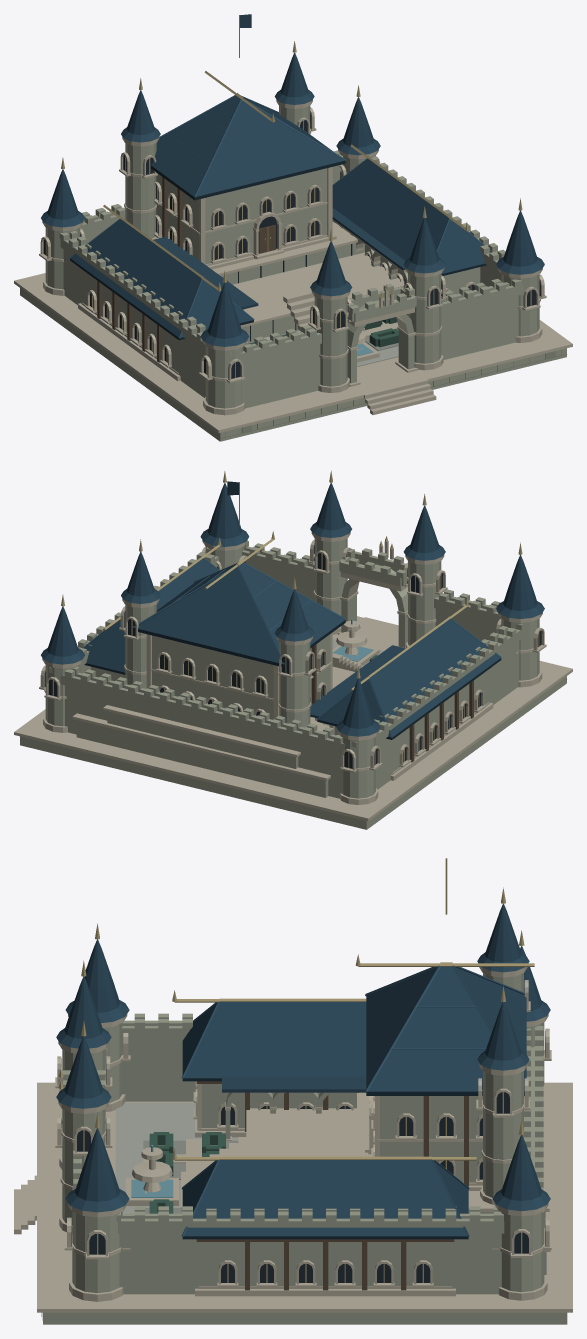
File: fjord.glb
3 renders of one model, top to bottom at view 1: azimuth 30°, elevation 25°; view 2: azimuth 150°, elevation 25°; view 3: azimuth 270°, elevation 25°, orthographic. The views are drawn at different scales.
Visible parts, largest first — view 1: citadel, citadel-roof, precinct-base, inhabited-detail; view 2: citadel, citadel-roof, precinct-base; view 3: citadel, citadel-roof, precinct-base, inhabited-detail.
Part boxes in pixels (x1,y1,x2,y2): citadel: [39, 14, 546, 415]; citadel-roof: [41, 41, 544, 346]; precinct-base: [14, 273, 572, 441]; inhabited-detail: [220, 350, 566, 438]; citadel: [39, 481, 546, 804]; citadel-roof: [41, 470, 544, 739]; precinct-base: [14, 616, 572, 829]; citadel: [55, 858, 551, 1301]; citadel-roof: [56, 887, 550, 1239]; precinct-base: [37, 1082, 572, 1324]; inhabited-detail: [14, 1175, 42, 1320].
Bounding box in the file's own units: 23.5 × 17.2 × 24.52.
